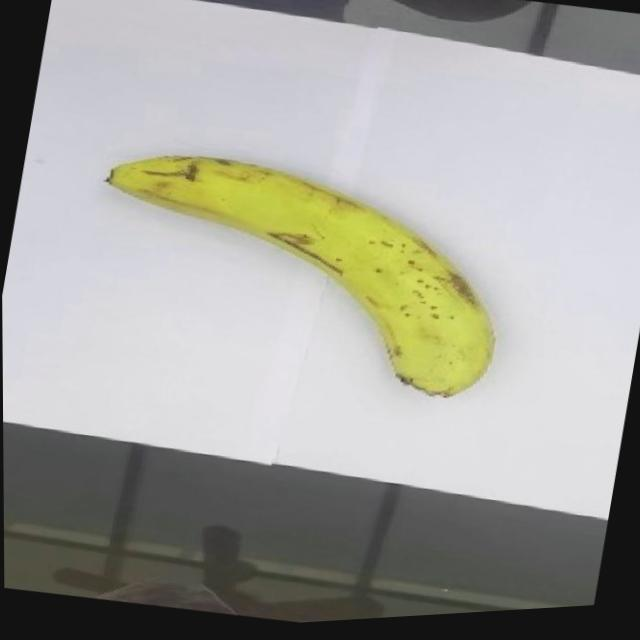Banana: (71, 128, 520, 427)
